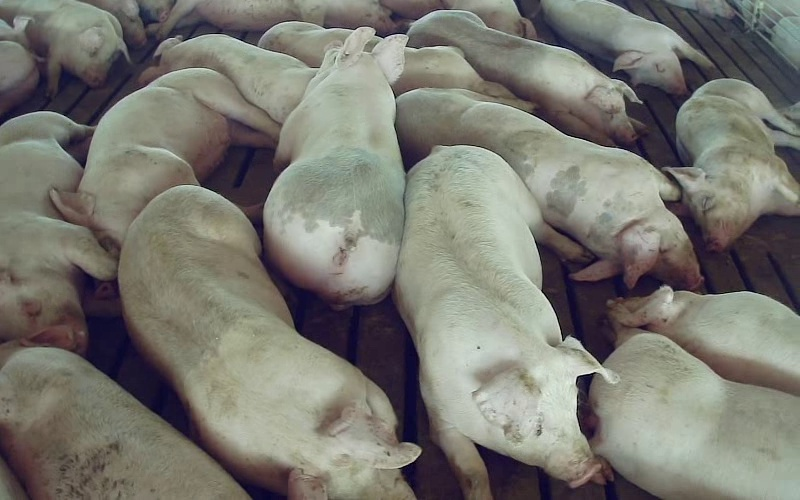pig: (119, 186, 419, 499), (395, 146, 616, 499), (396, 88, 702, 289), (51, 68, 279, 254), (263, 27, 406, 308), (589, 316, 799, 499), (408, 11, 644, 145), (664, 79, 799, 251), (608, 286, 799, 395), (541, 0, 714, 95), (139, 34, 316, 122), (148, 0, 398, 39)
